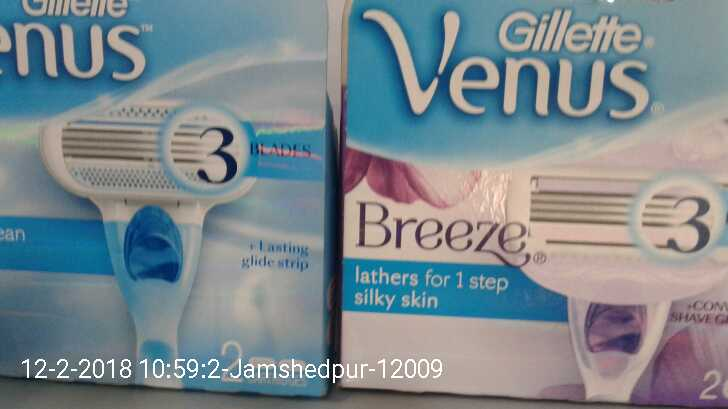venus: (342, 3, 728, 405), (1, 2, 330, 395)
